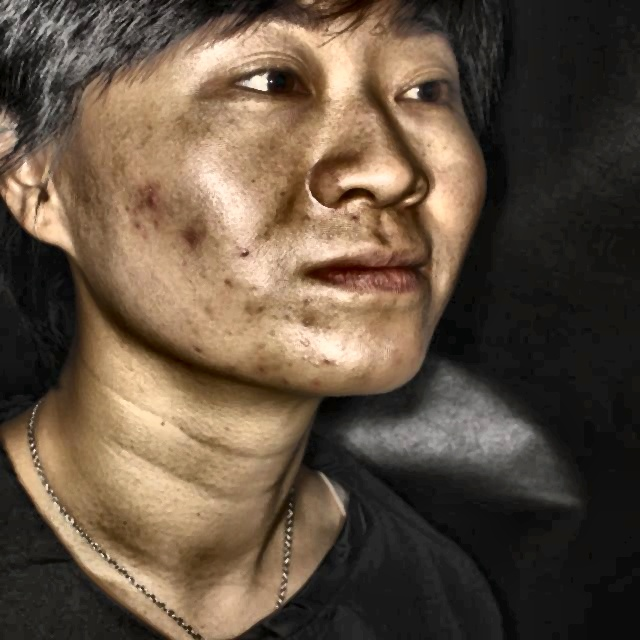pustule: (125, 215, 163, 238), (400, 340, 428, 369), (317, 346, 349, 370), (298, 310, 324, 338), (252, 356, 274, 383), (179, 225, 205, 247), (140, 187, 162, 210), (305, 364, 320, 384)
